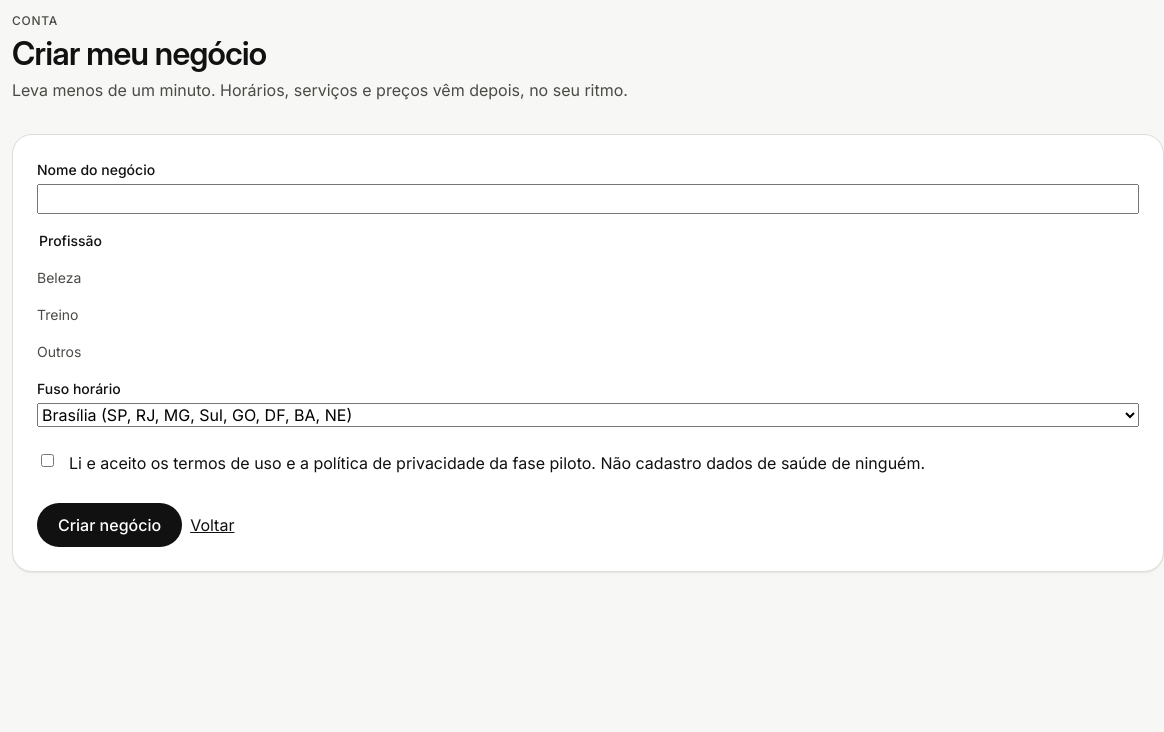
it: criar negócio › botão sempre ativo: ao enviar vazio, mostra cada erro embaixo do campo e foca o primeiro
Click the button "Criar negócio". click: click(110, 525)
box: [37,503,182,547]
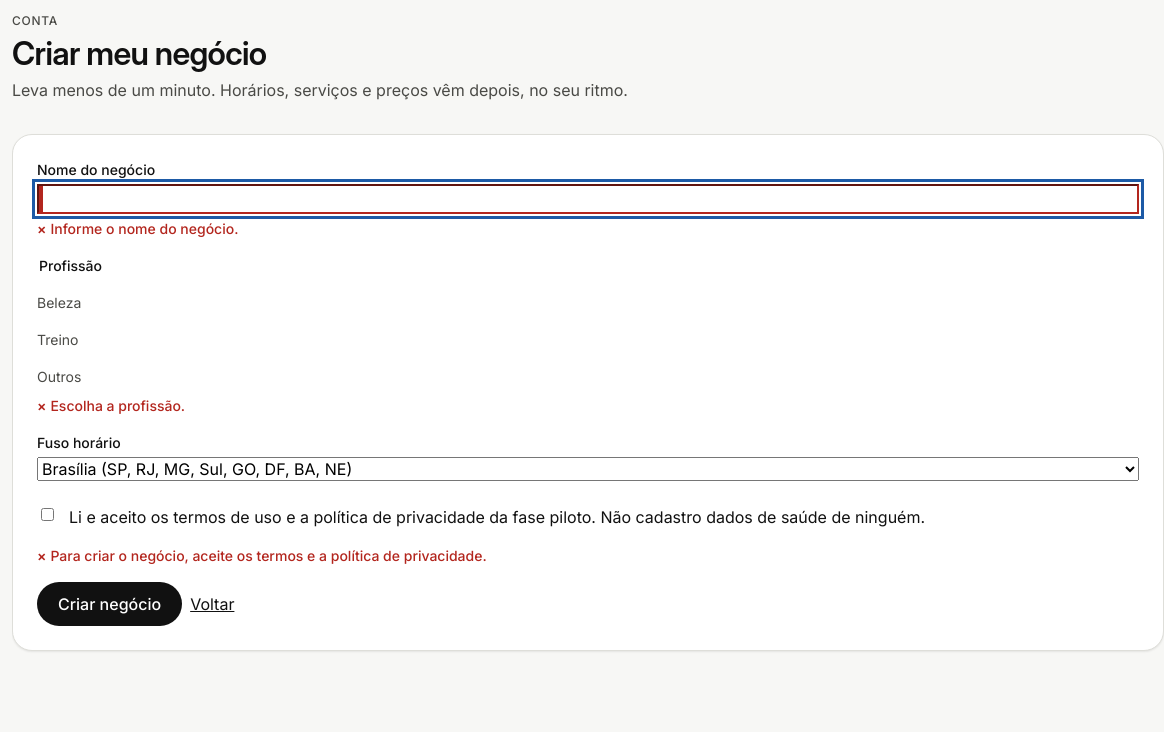
Expected: the text "Informe o nome do negócio." is shown, [50,220,238,237]
Expected: the text "Escolha a profissão." is shown, [50,397,185,414]
Expected: the text "aceite os termos" is shown, [50,547,487,564]
